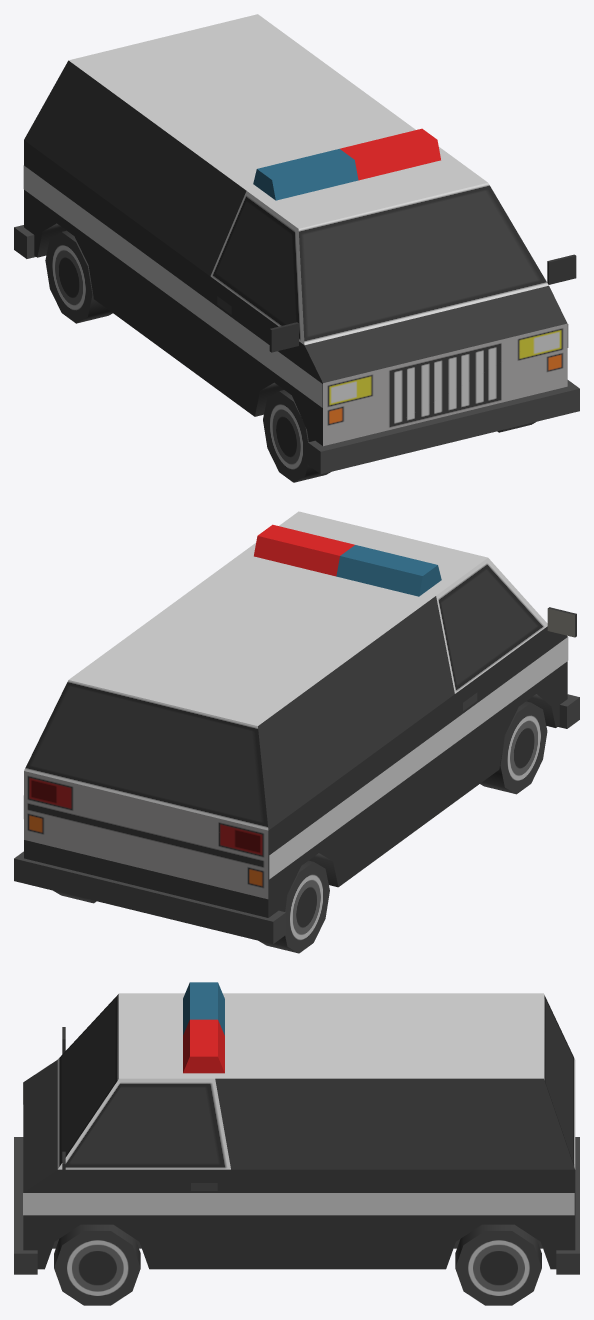
The model's file is car 34 single.FBX.
The picture shows the model from 3 angles, top to bottom: view 1: azimuth 30°, elevation 25°; view 2: azimuth 150°, elevation 25°; view 3: azimuth 270°, elevation 25°; orthographic projection. The views are drawn at different scales.
Parts seen in each view (by area): view 1: Box517; view 2: Box517; view 3: Box517.
Part boxes in pixels (bbox=[...]): Box517: bbox=[14, 14, 579, 482]; Box517: bbox=[14, 511, 579, 953]; Box517: bbox=[14, 982, 579, 1305].
Bounding box in the file's own units: 3.08 × 2.44 × 5.38.
